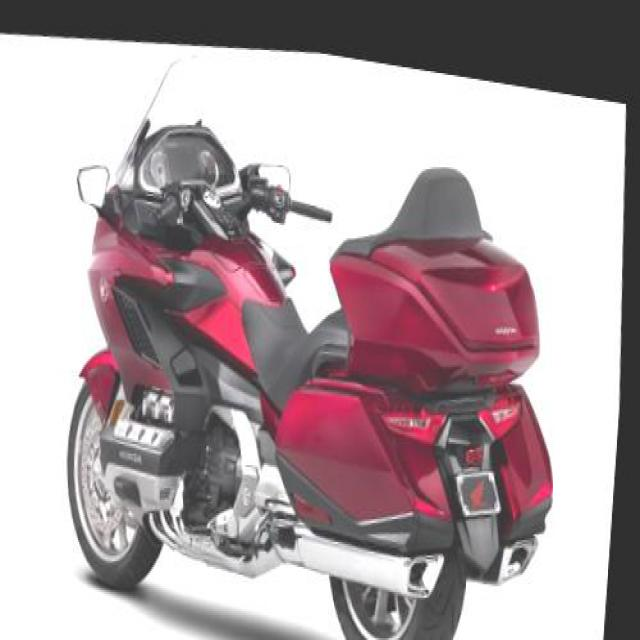Gold Wing: (36, 8, 595, 638)
